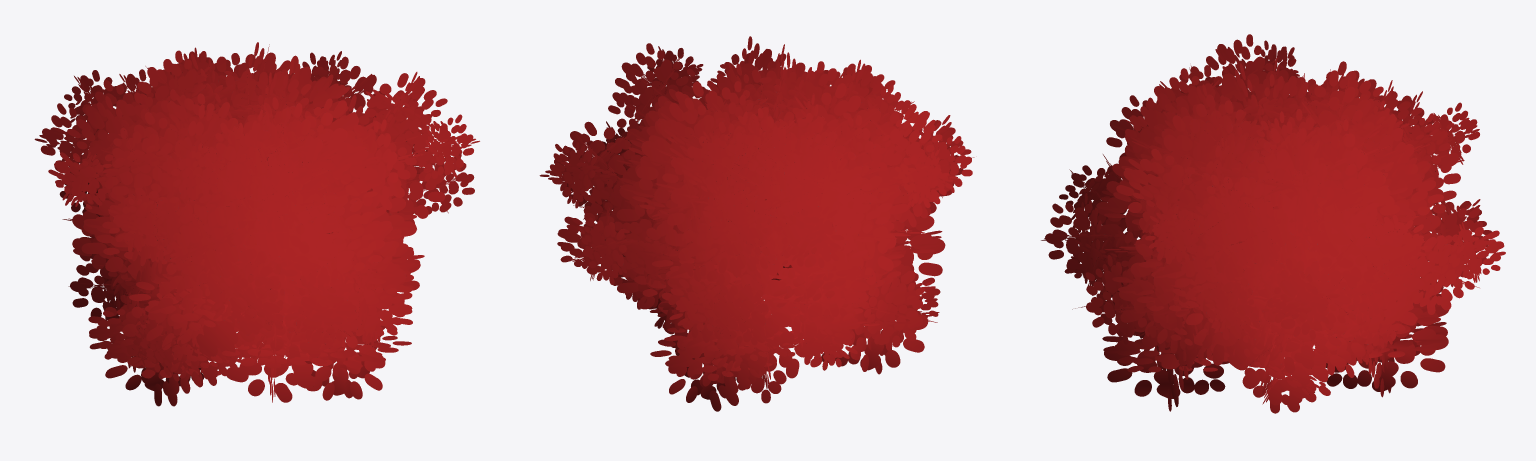
File: Bush_Common.glb
3 renders of one model, left to right at view 1: azimuth 30°, elevation 25°; view 2: azimuth 150°, elevation 25°; view 3: azimuth 270°, elevation 25°, orthographic. The views are drawn at different scales.
Visible parts, largest first — view 1: Bush_Common; view 2: Bush_Common; view 3: Bush_Common.
Part boxes in pixels (x1,y1,x2,y2): Bush_Common: (34,42,479,406); Bush_Common: (539,36,974,411); Bush_Common: (1041,34,1505,413).
Size of the model in its own units: 1.91 by 1.58 by 1.97.
Materials: 1 (1 with a texture image).
